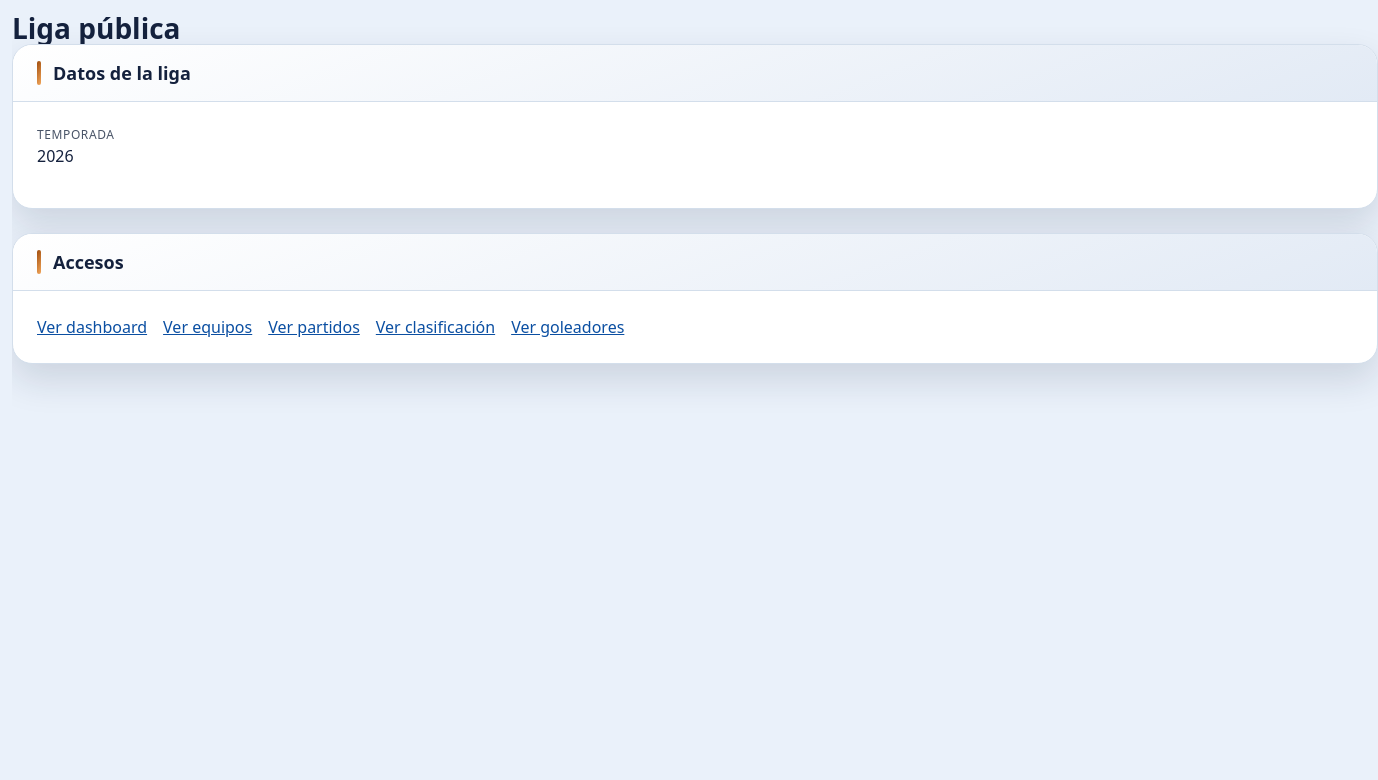
calendario público › llega desde la liga al próximo partido en una interacción
The width and height of the screenshot is (1378, 780).
Click the link "Ver partidos" at {"x": 314, "y": 327}, box [268,315,360,339]
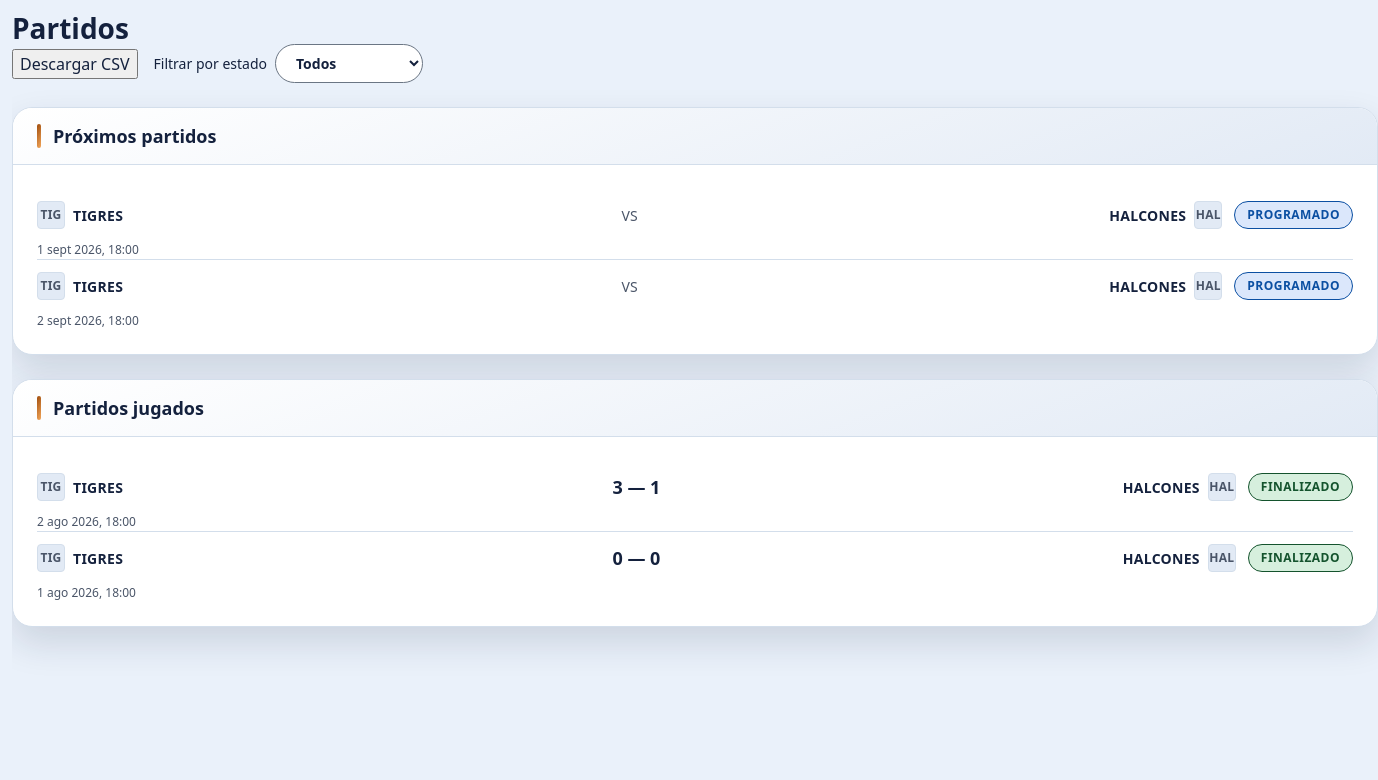
Result: the heading "Próximos partidos" is shown at [37,124,216,148]
Result: the 1st link "TIG Tigres vs Halcones HAL Programado" is shown at [37,201,1353,229]
